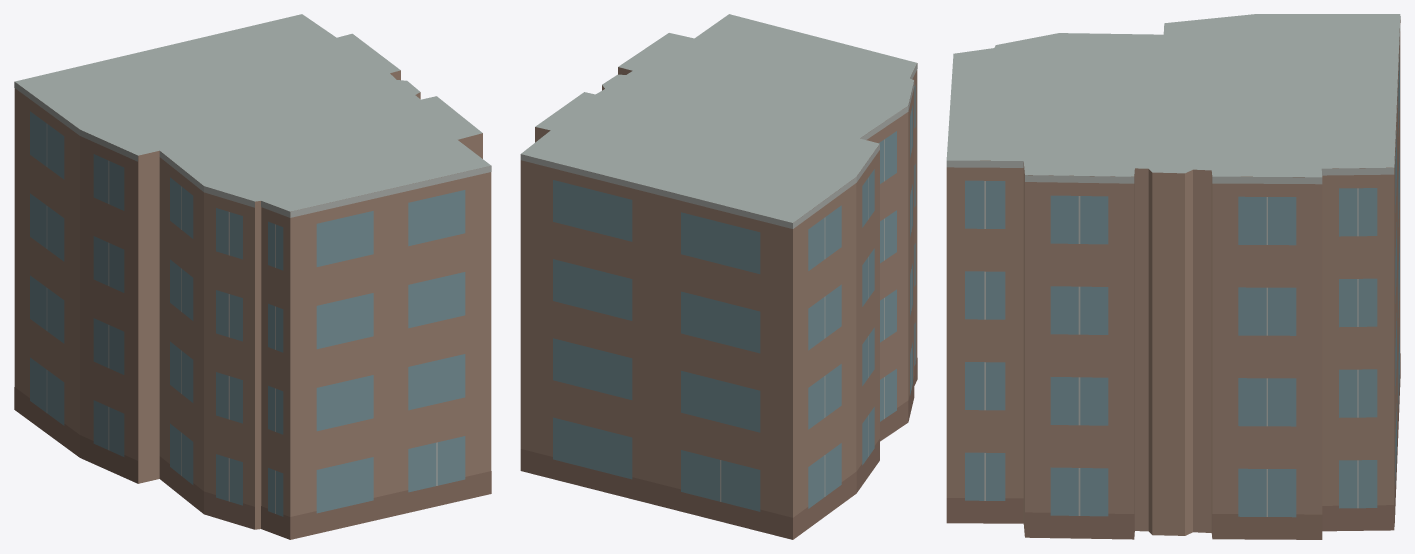
File: survey-upis-32577144.glb
The picture shows the model from 3 angles, left to right: view 1: azimuth 30°, elevation 25°; view 2: azimuth 150°, elevation 25°; view 3: azimuth 270°, elevation 25°; orthographic projection. The views are drawn at different scales.
Visible parts, largest first — view 1: survey-upis-32577144.tmp; view 2: survey-upis-32577144.tmp; view 3: survey-upis-32577144.tmp.
Part boxes in pixels (<box>): survey-upis-32577144.tmp: <box>14,14,491,539</box>; survey-upis-32577144.tmp: <box>520,14,917,539</box>; survey-upis-32577144.tmp: <box>946,14,1400,539</box>.
Size of the model in its own units: 12.27 by 12.7 by 14.41.
